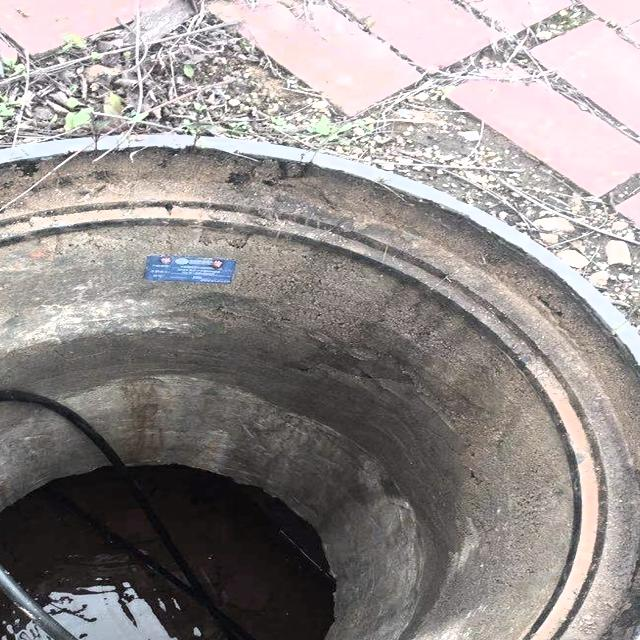lose: (0, 165, 640, 640)
